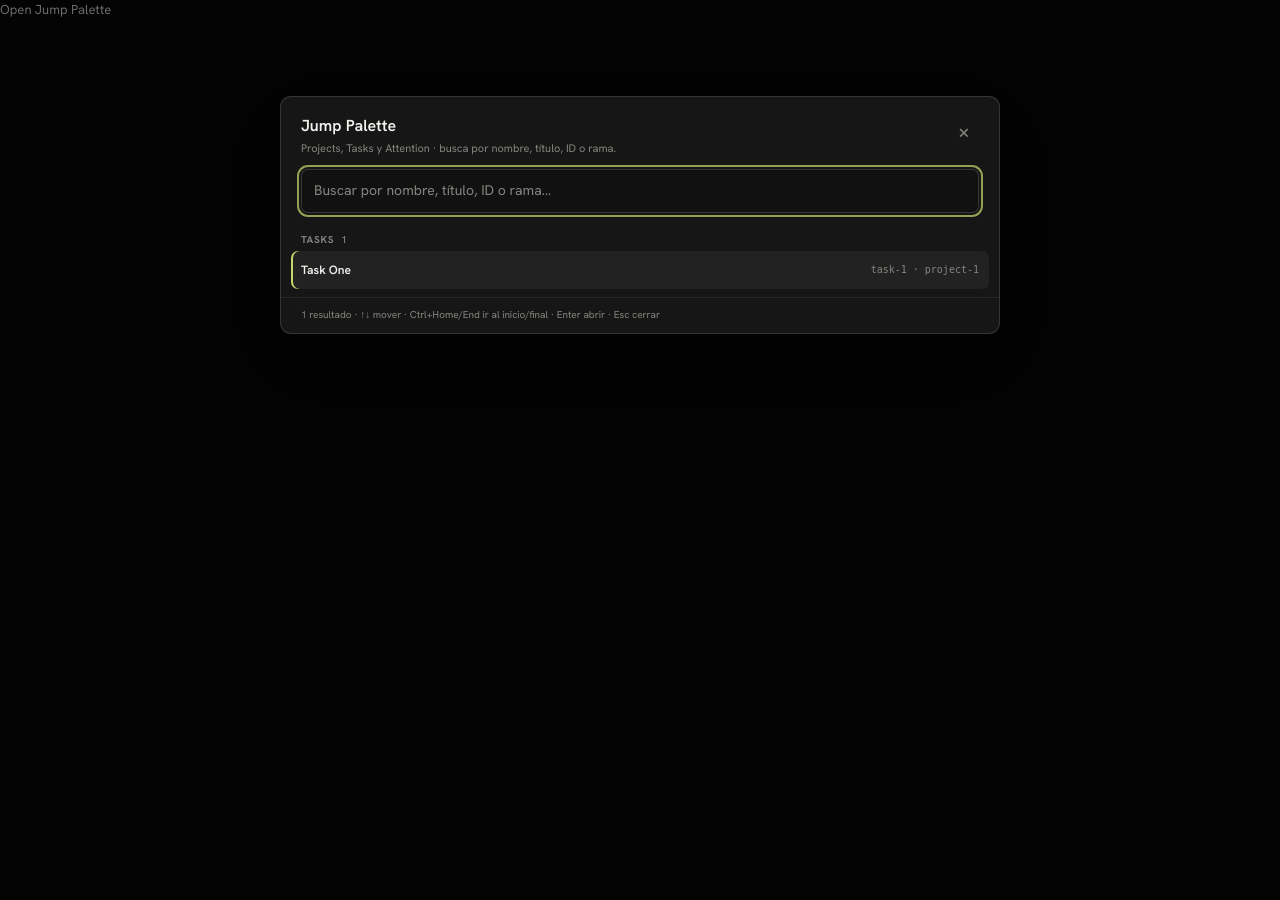
Test: JumpPalette › keeps Escape and Tab handling after pointer clicks on non-interactive header and status text
Press the mouse on the heading "Jump Palette": (349, 126) [301,115,396,136]
Press Tab in the dropdown named "Buscar Projects, Tasks y Attention", box [301,168,979,212]
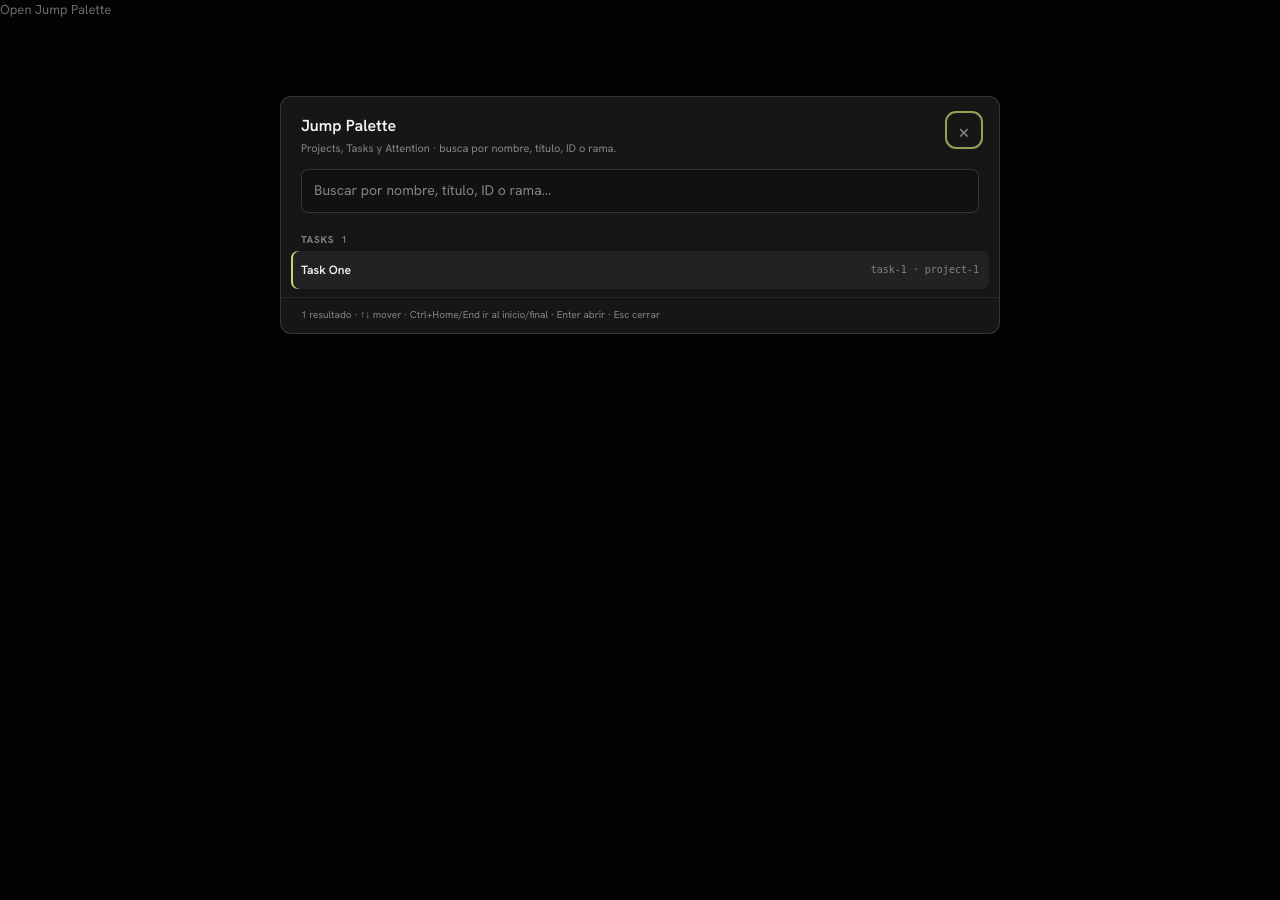
Press the mouse on the message: (640, 314) [281,296,999,332]
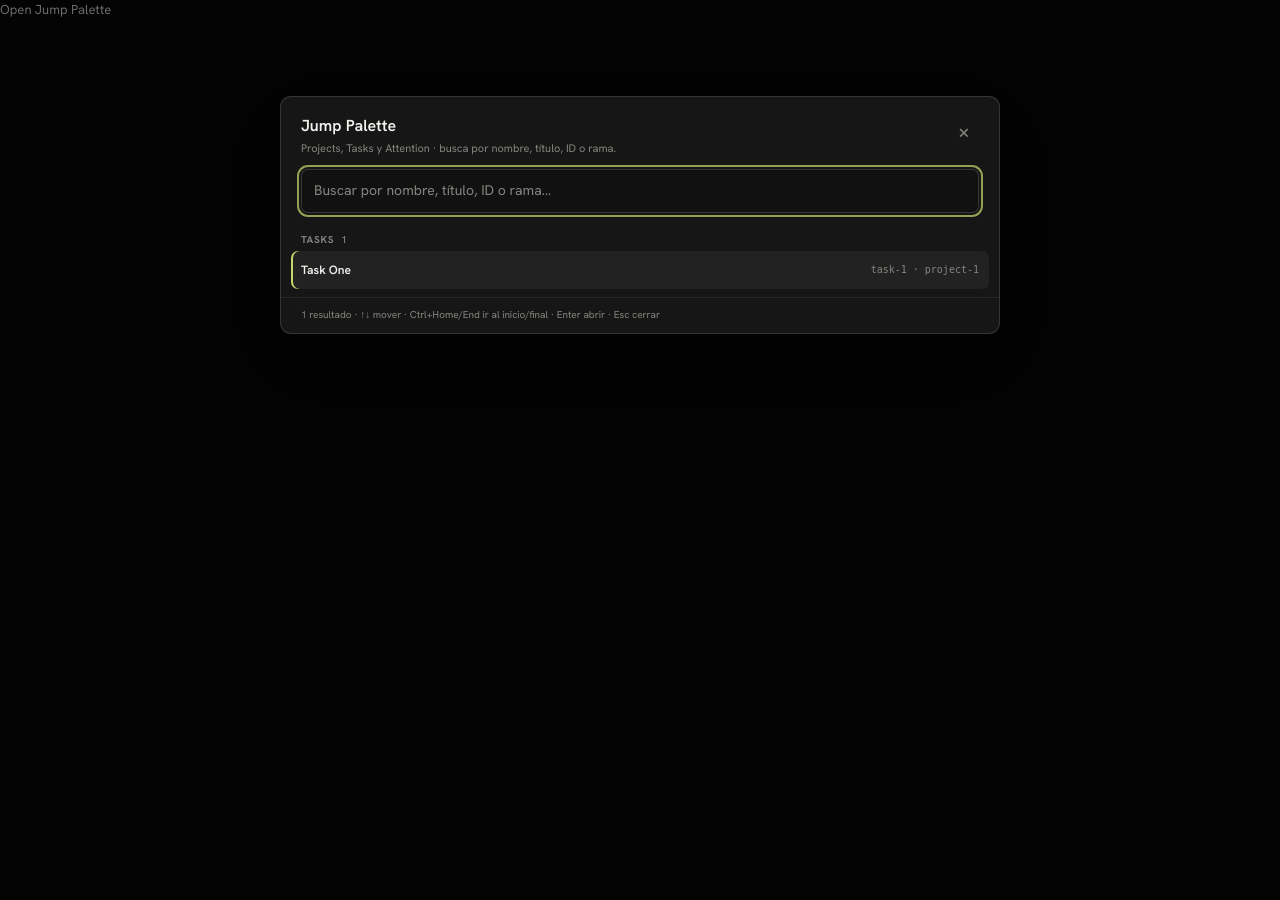
Press Tab in the dropdown named "Buscar Projects, Tasks y Attention", box [301,168,979,212]
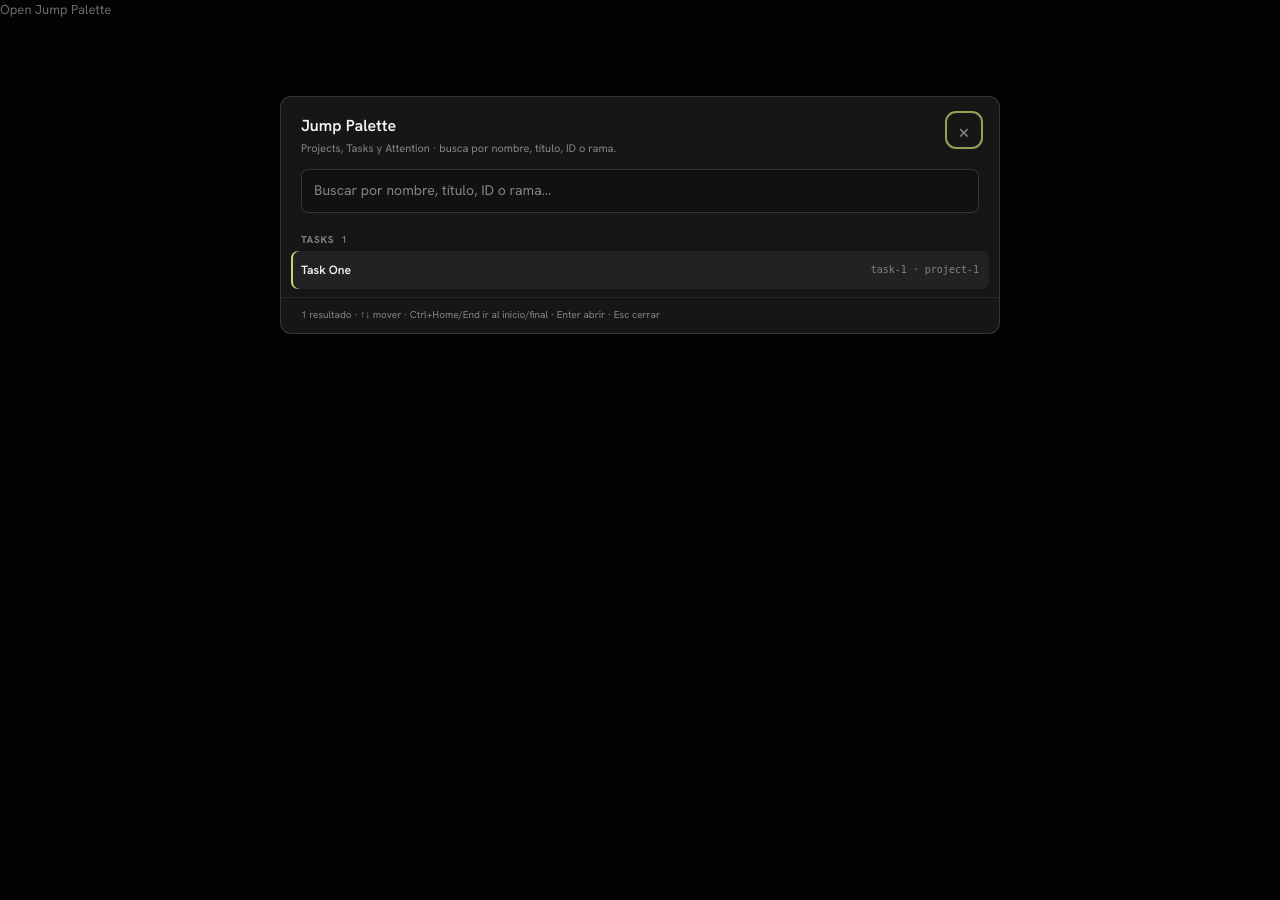
Press the mouse on the heading "Jump Palette": (349, 126) [301,115,396,136]
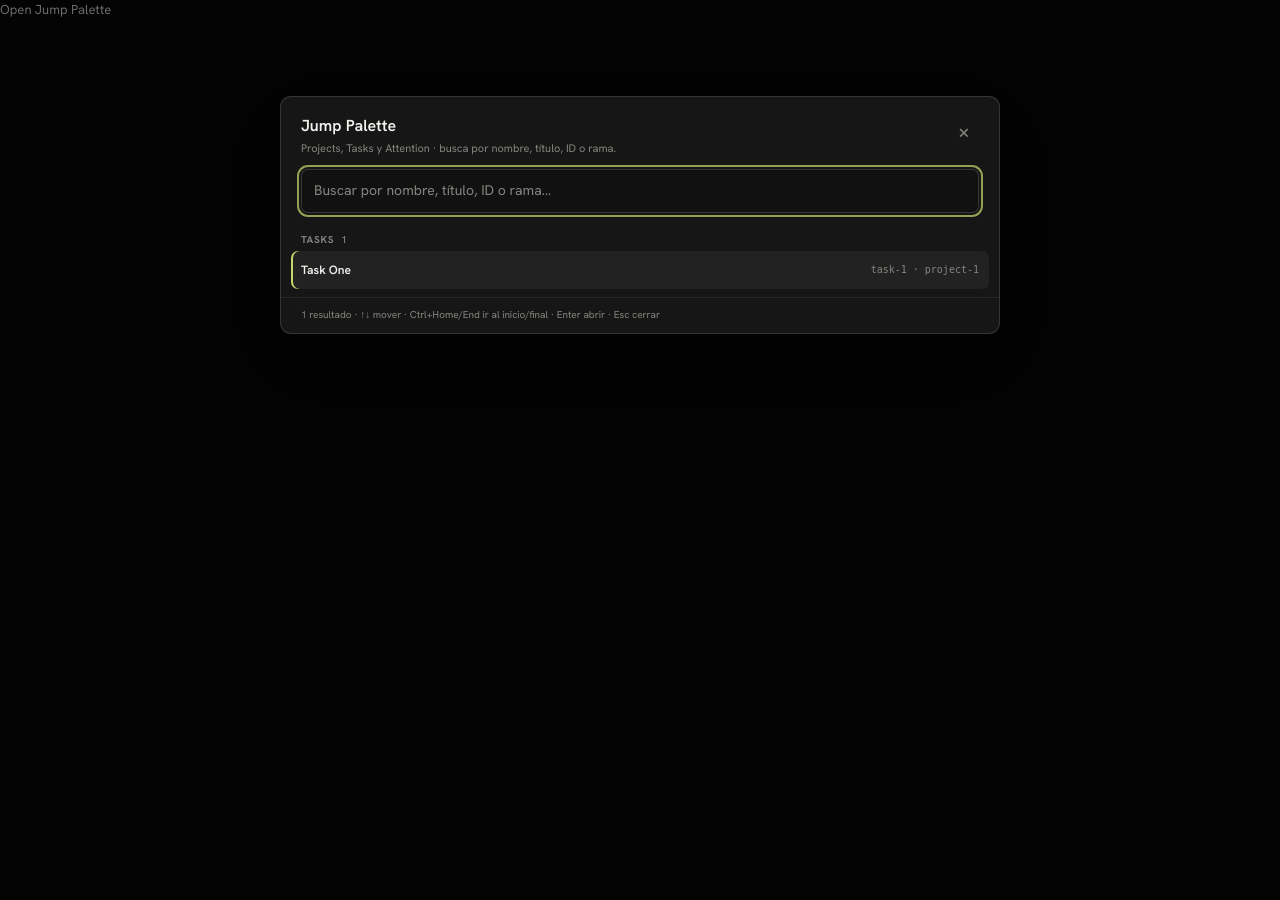
Press Escape in the dropdown named "Buscar Projects, Tasks y Attention", box [301,168,979,212]
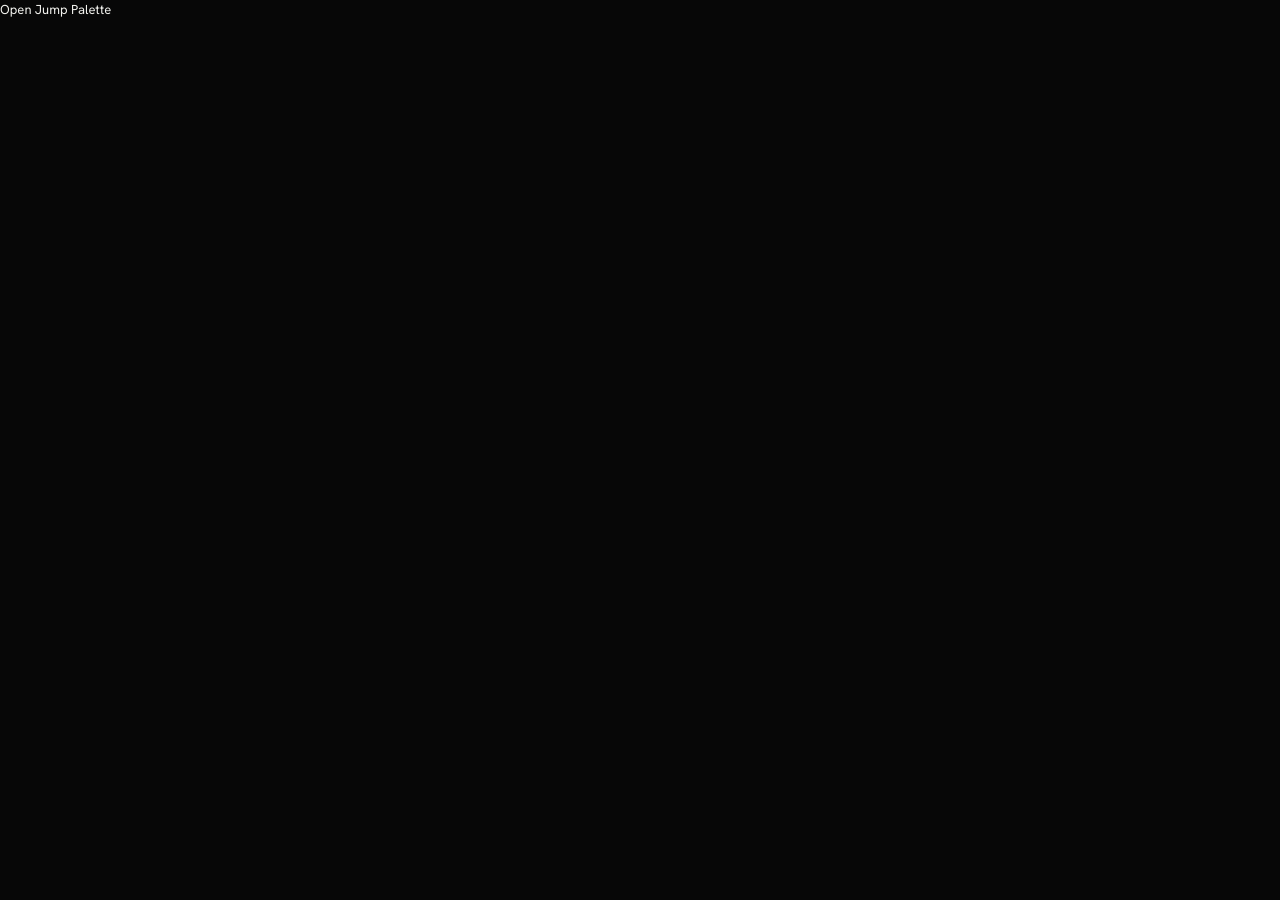
Expected: the dialog is gone
